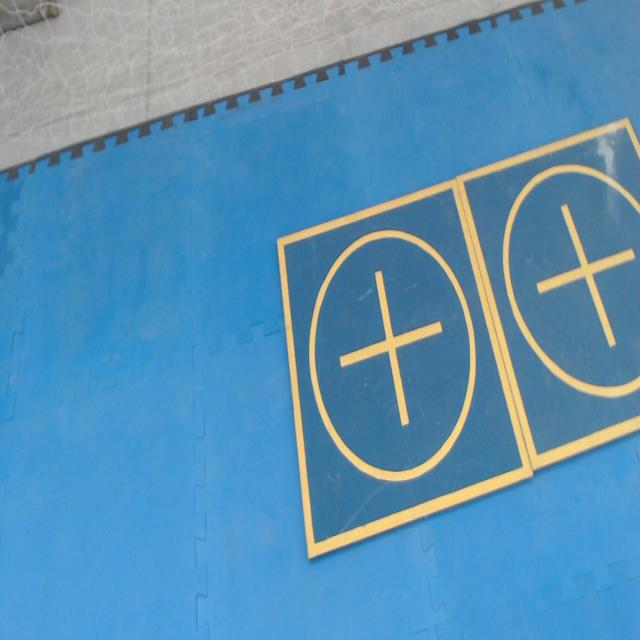base_pouso: (277, 175, 533, 561), (455, 114, 640, 470)
